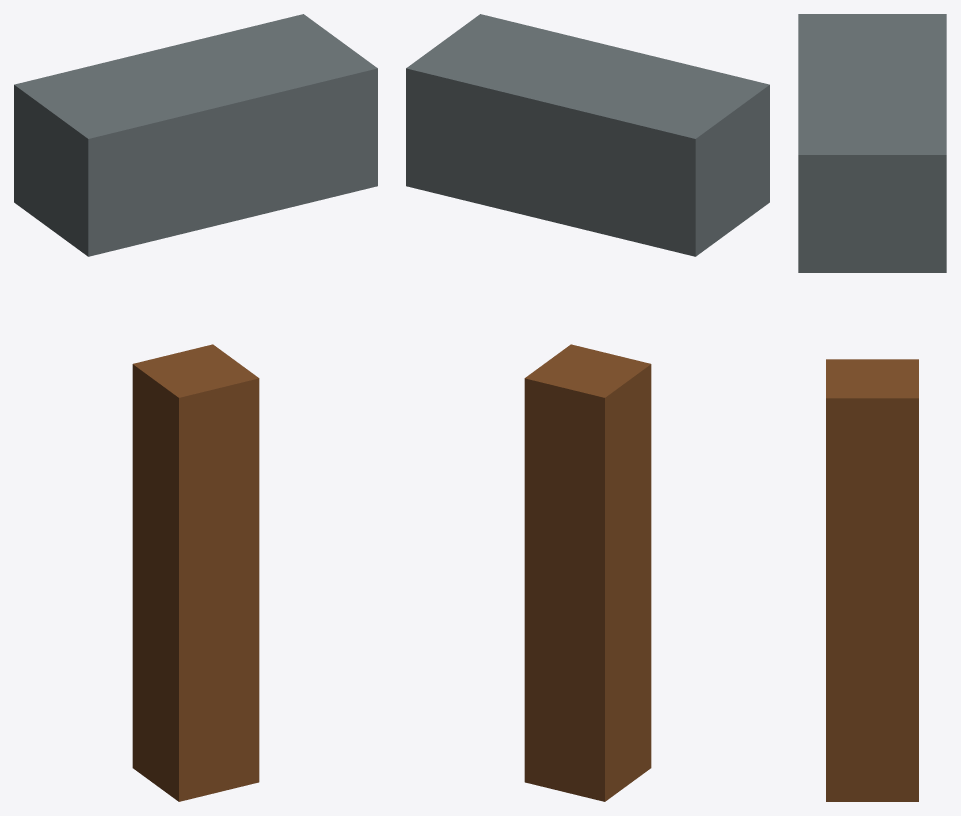
Rendered from workshop_hammer.gltf.
The picture shows the model from 3 angles, left to right: view 1: azimuth 30°, elevation 25°; view 2: azimuth 150°, elevation 25°; view 3: azimuth 270°, elevation 25°; orthographic projection.
Visible parts, largest first — view 1: Head, Grip; view 2: Head, Grip; view 3: Grip, Head.
Part boxes in pixels (bbox=[...]): Head: bbox=[14, 14, 377, 256]; Grip: bbox=[132, 344, 259, 801]; Head: bbox=[406, 14, 769, 256]; Grip: bbox=[524, 344, 651, 801]; Grip: bbox=[826, 359, 918, 801]; Head: bbox=[798, 14, 946, 272].
Size of the model in its own units: 0.36 by 0.83 by 0.16.
